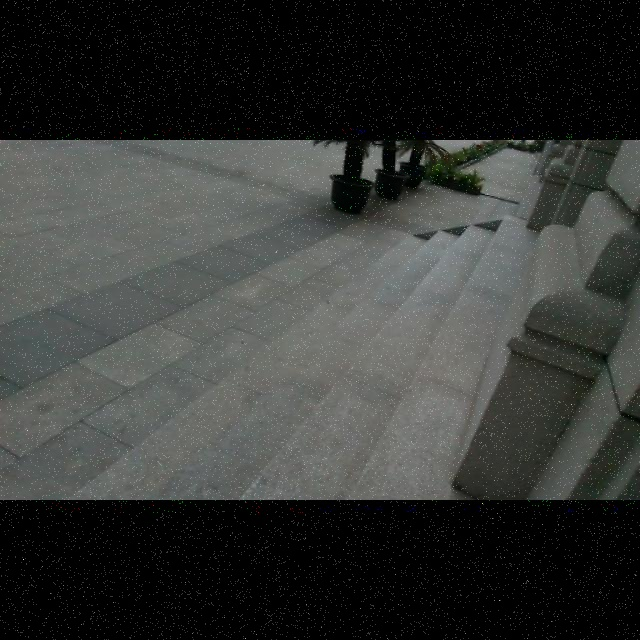stair: (181, 221, 528, 491)
